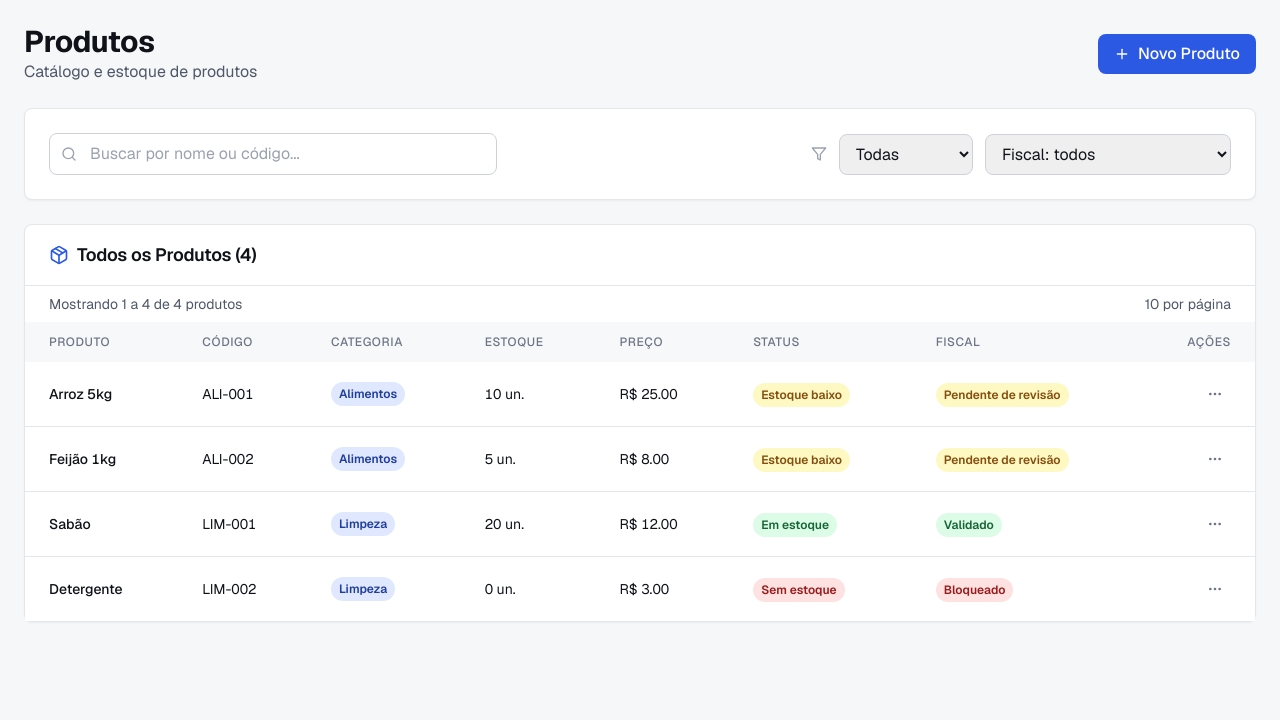
Test: Produtos — pesquisa sem perda de foco › 8. O filtro de categoria continua funcionando junto com a pesquisa
Step 1. Select "Limpeza" in the dropdown named "Filtrar por categoria" → (906, 154), box x1=839 y1=134 x2=973 y2=174
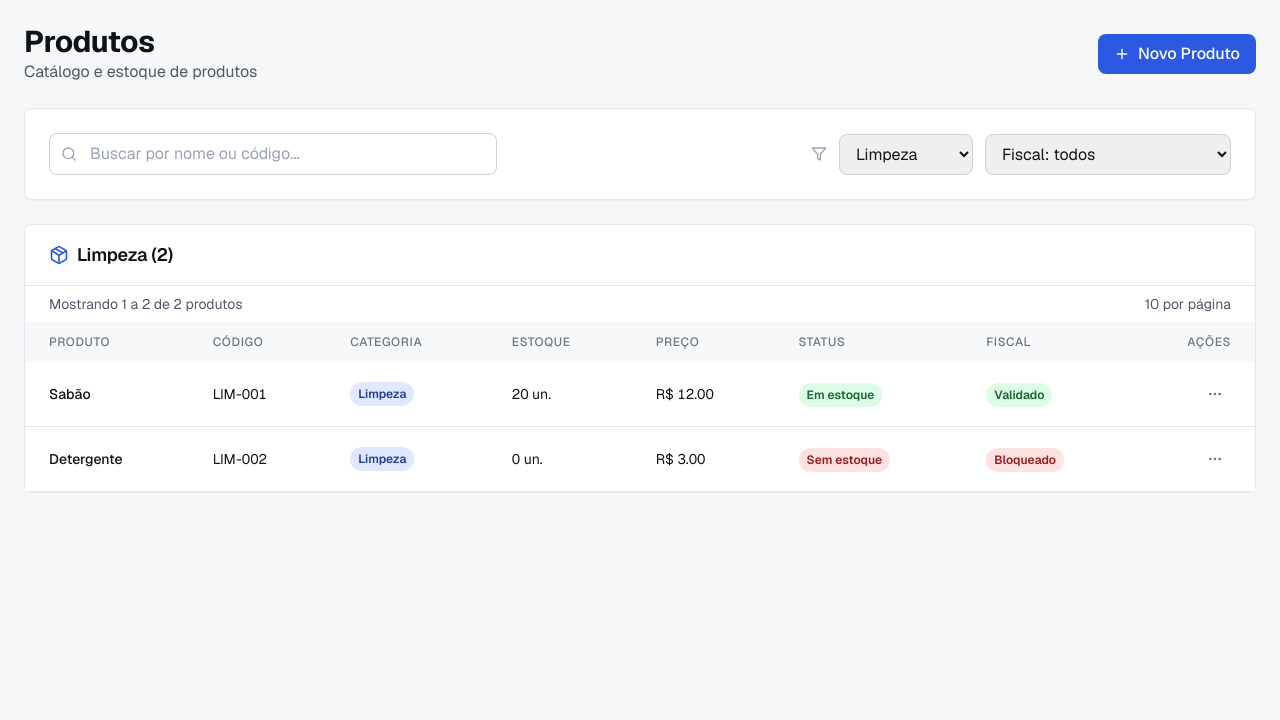
expect the text "Sabão" is shown: met, box x1=49 y1=385 x2=91 y2=403
expect the text "Arroz 5kg" is gone: met
// Pesquisa dentro da categoria selecionada
Step 2. Type "sabão" into the field with placeholder "Buscar por nome ou código..." → (273, 154), box x1=49 y1=133 x2=497 y2=175
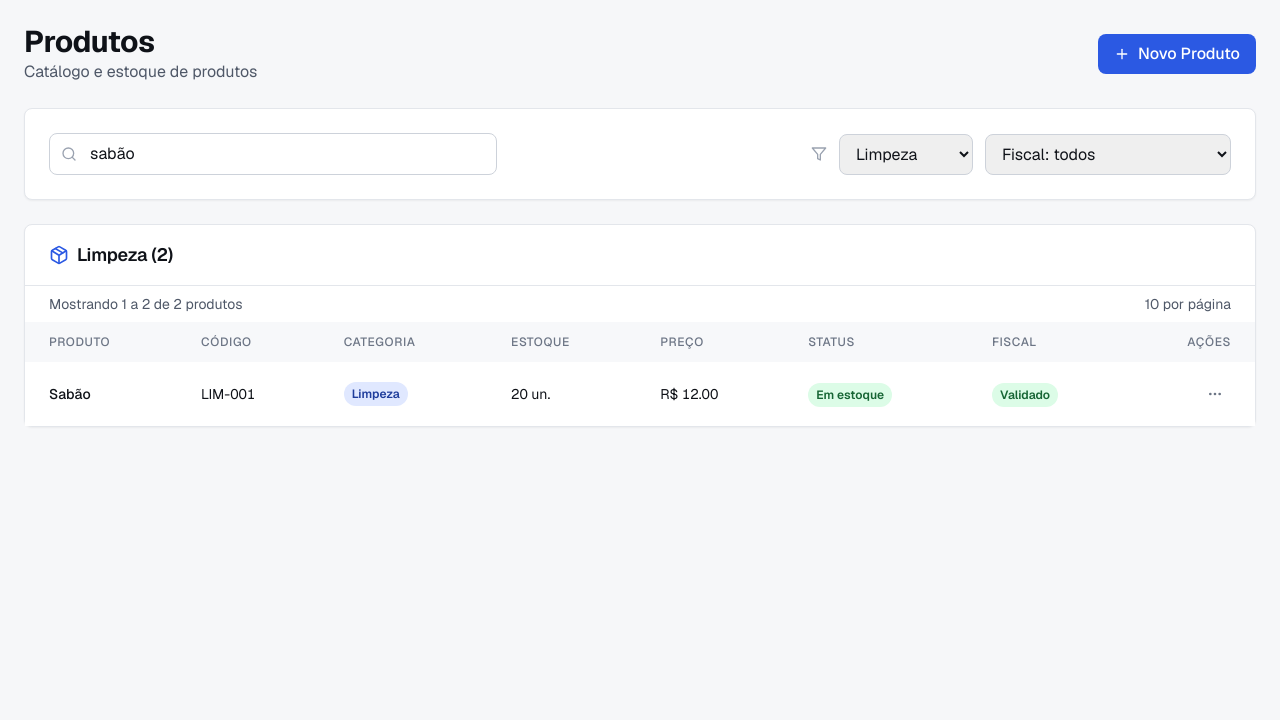
expect the text "Sabão" is shown: met, box x1=49 y1=385 x2=91 y2=403
expect the text "Detergente" is gone: met
